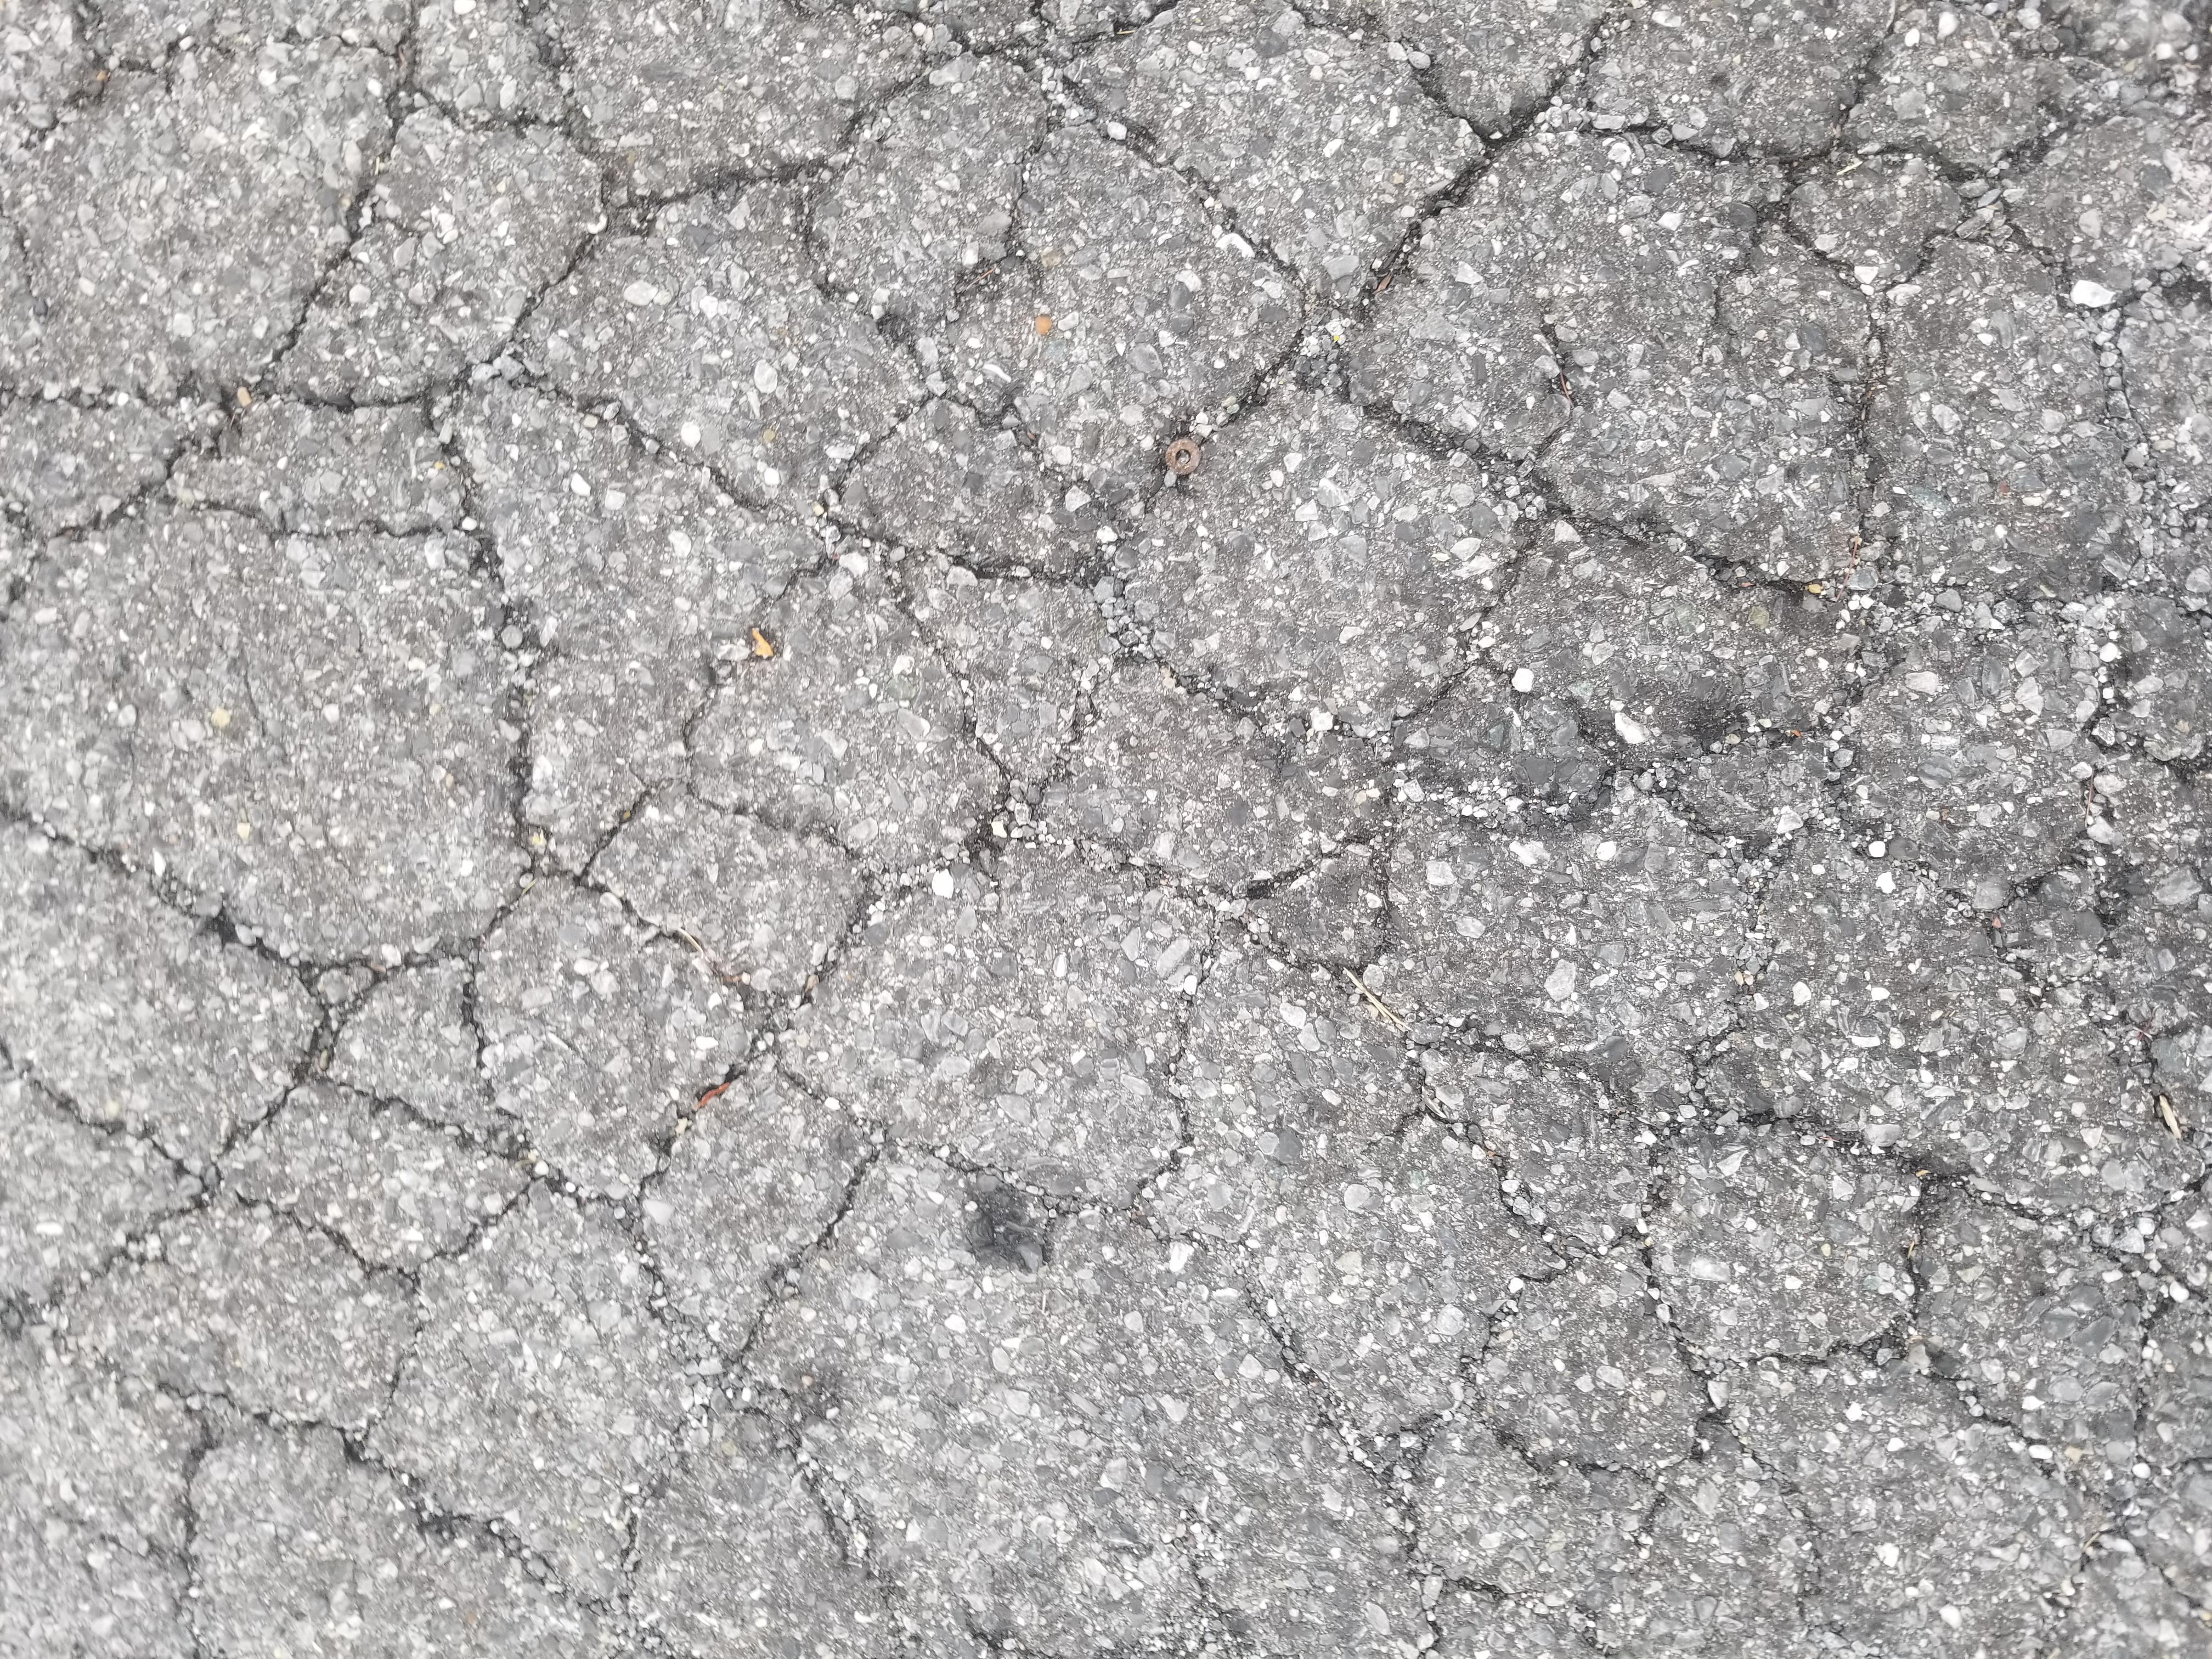alligator-crack: (66, 0, 2212, 779), (968, 796, 2212, 1659), (3, 903, 921, 1459)
